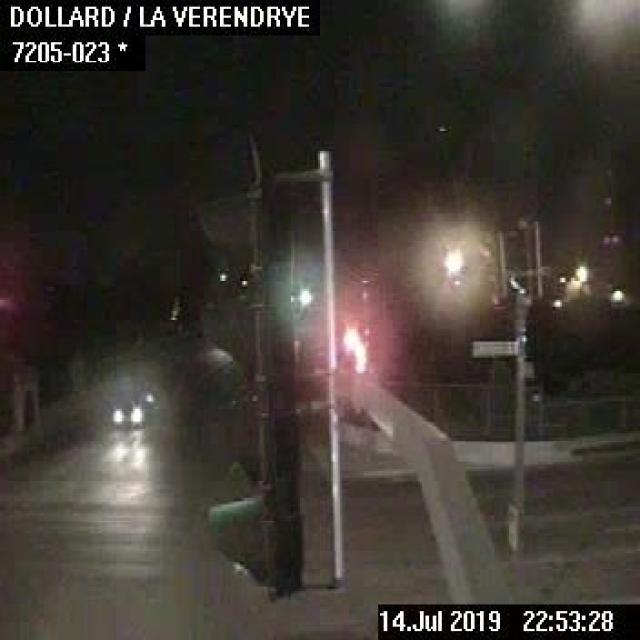vehicle: (105, 382, 153, 429)
